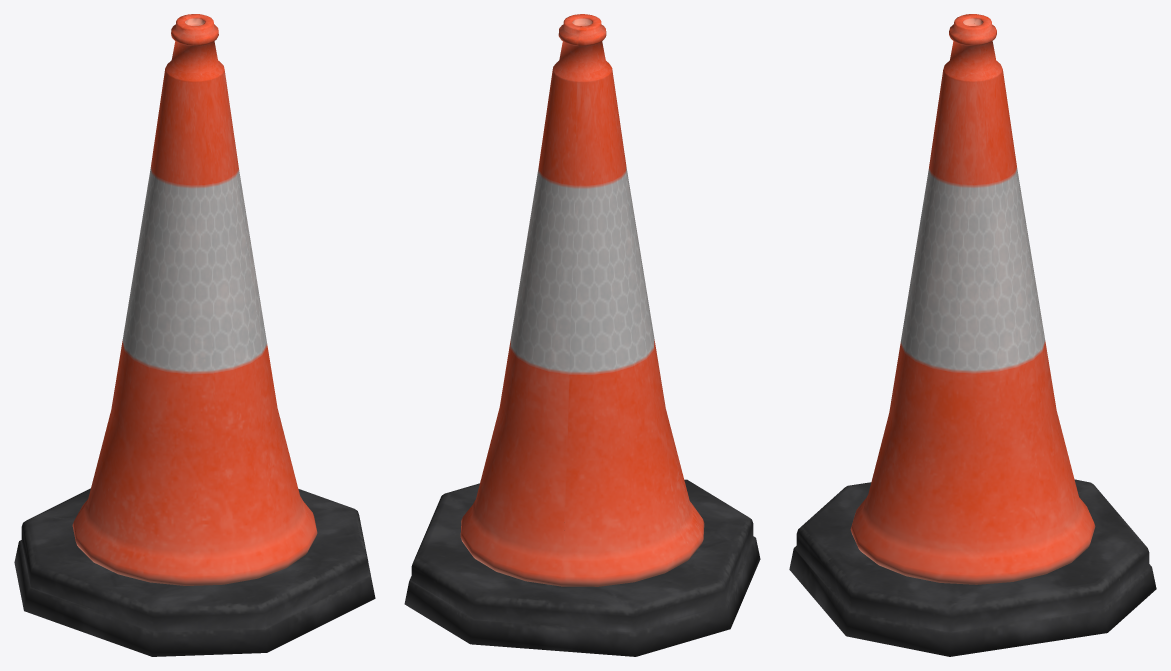
3 views of the same model, side by side, from view 1: azimuth 30°, elevation 25°; view 2: azimuth 150°, elevation 25°; view 3: azimuth 270°, elevation 25° (orthographic).
Parts seen in each view (by area): view 1: cone; view 2: cone; view 3: cone.
Boxes of the visible parts, bbox=[...] form: cone: bbox=[14, 14, 375, 656]; cone: bbox=[404, 14, 760, 656]; cone: bbox=[789, 14, 1156, 656].
Bounding box in the file's own units: 0.4522 × 0.758 × 0.4522.
Materials: 2 (2 with a texture image).
